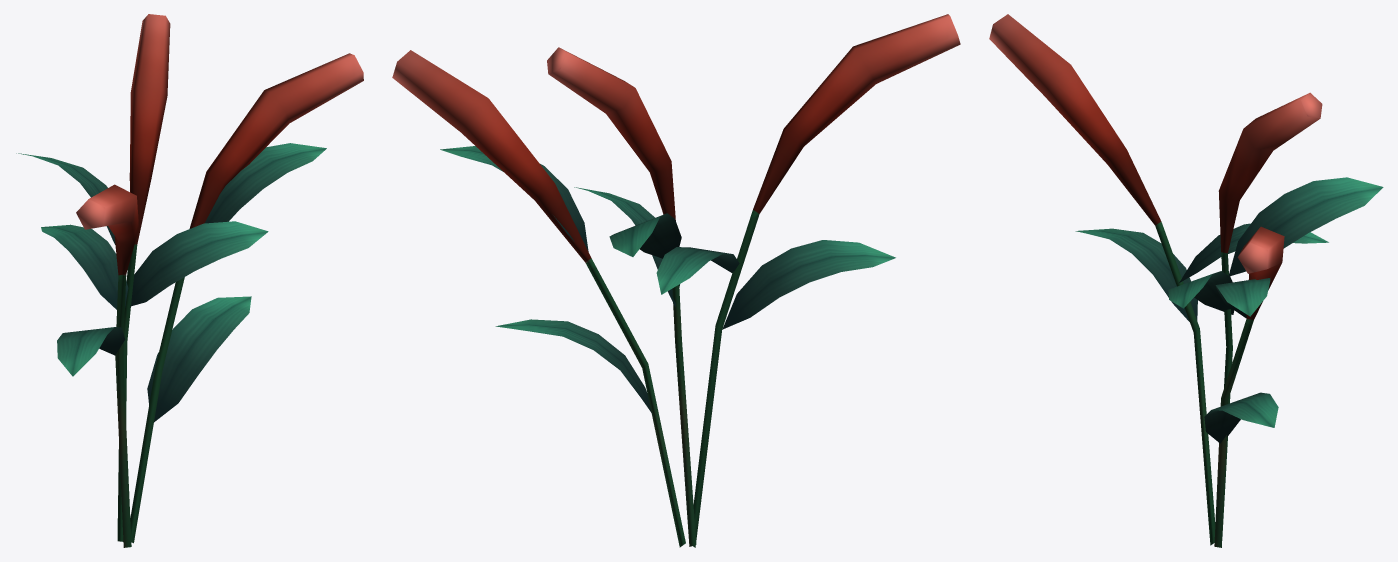
The model's file is Snake_plant_03.fbx.
3 renders of one model, left to right at view 1: azimuth 30°, elevation 25°; view 2: azimuth 150°, elevation 25°; view 3: azimuth 270°, elevation 25°, orthographic. The views are drawn at different scales.
Visible parts, largest first — view 1: Snake_plant_03; view 2: Snake_plant_03; view 3: Snake_plant_03.
Part boxes in pixels (x1,y1,x2,y2): Snake_plant_03: (16, 14, 363, 547); Snake_plant_03: (392, 14, 960, 547); Snake_plant_03: (989, 14, 1383, 547).
Size of the model in its own units: 136 by 154 by 113.
